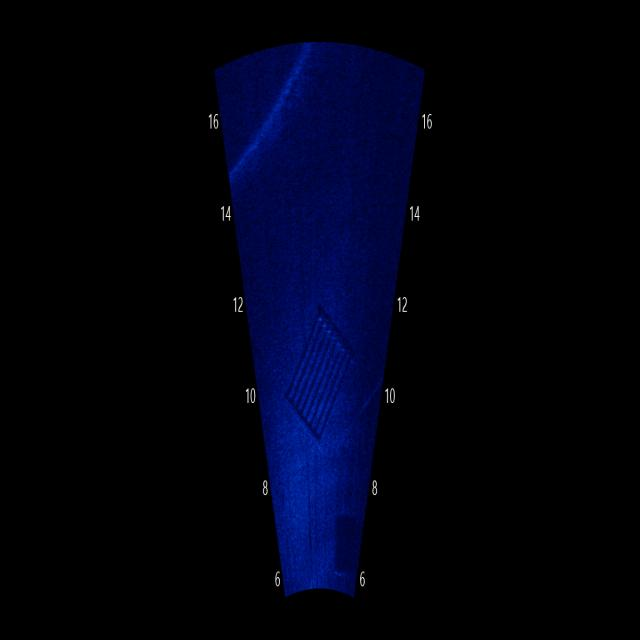square: (282, 296, 359, 470), (330, 502, 371, 590)
